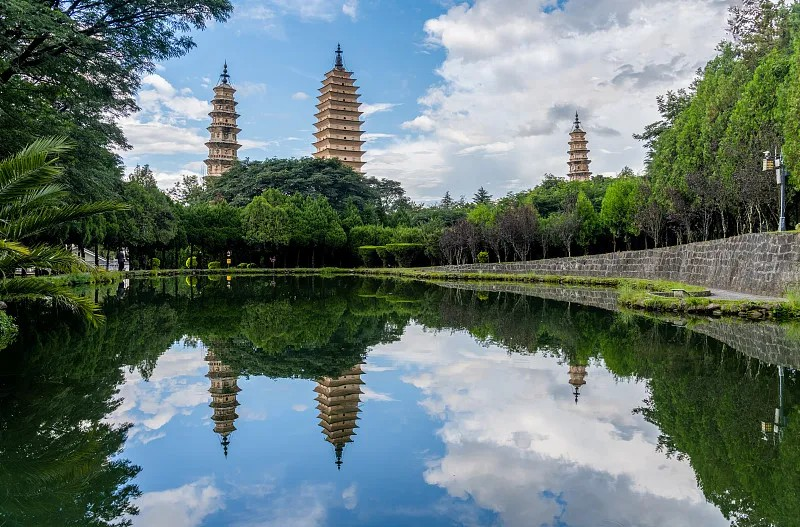ThreePagoda: (311, 43, 366, 175)
